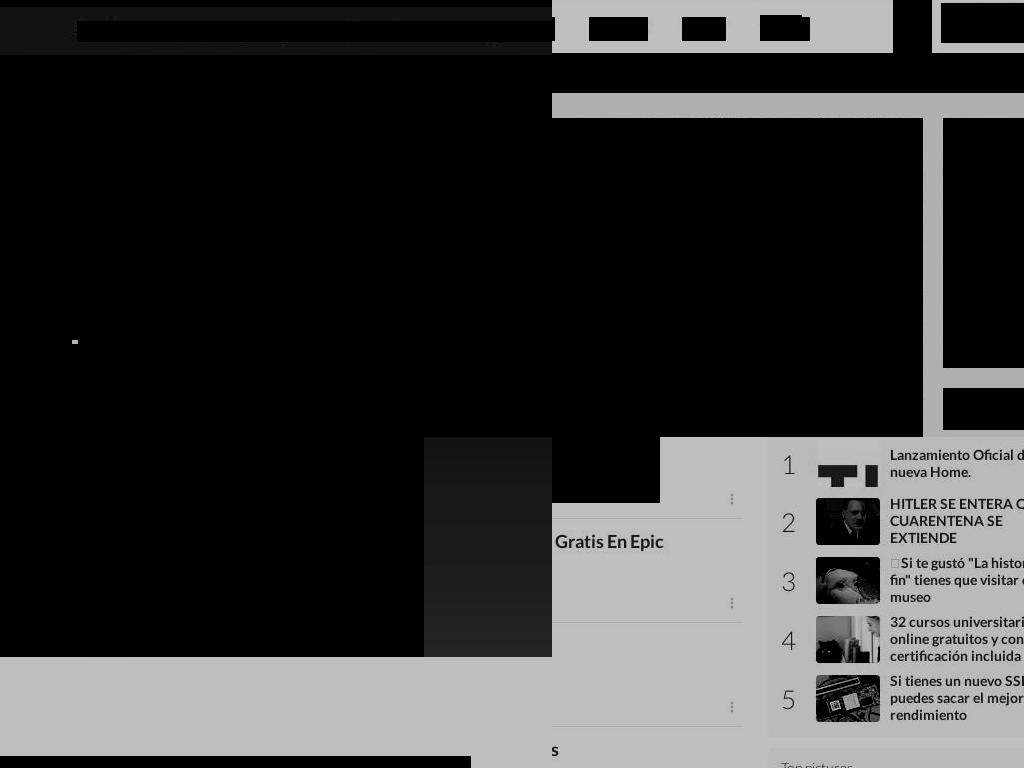button: (552, 118, 923, 437), (781, 497, 1024, 546), (781, 556, 1024, 605), (781, 615, 1024, 664), (781, 674, 1024, 723), (781, 440, 1024, 487), (77, 21, 552, 42), (943, 388, 1024, 430), (941, 3, 1024, 43), (552, 531, 664, 551), (893, 0, 932, 53), (589, 17, 648, 41), (760, 17, 810, 41), (682, 17, 726, 41), (552, 53, 573, 93), (716, 486, 748, 512), (716, 590, 748, 616), (716, 694, 748, 720)
heading: (0, 163, 515, 340), (552, 534, 664, 607), (552, 437, 660, 503), (890, 495, 1024, 546), (890, 554, 1024, 605), (890, 613, 1024, 664), (890, 672, 1024, 723), (890, 445, 1024, 480), (781, 756, 1024, 768)
iframe: (943, 118, 1024, 368)
image: (552, 118, 923, 437), (0, 437, 424, 657), (816, 440, 880, 487), (816, 498, 880, 545), (816, 557, 880, 604), (816, 616, 880, 663), (816, 675, 880, 722), (901, 12, 924, 35), (956, 16, 977, 30), (724, 491, 740, 507), (724, 595, 740, 611), (724, 699, 740, 715), (802, 20, 810, 30)
text: (760, 15, 802, 34), (983, 14, 1024, 33), (781, 450, 794, 477), (781, 508, 794, 535), (781, 567, 794, 594), (781, 626, 794, 653), (781, 685, 794, 712)
